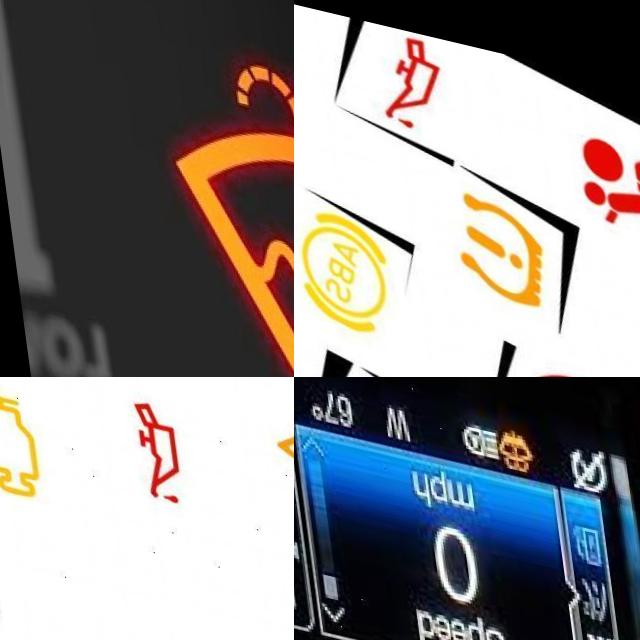Washer Fluid: (155, 32, 294, 377)
